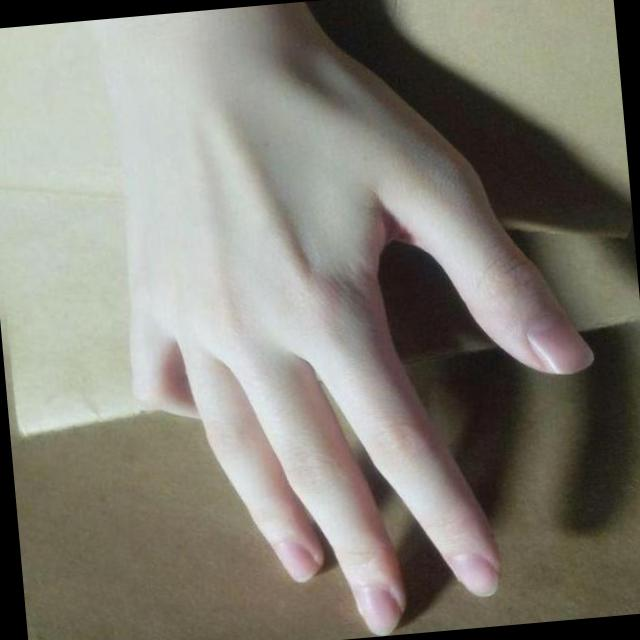Nail: (525, 311, 593, 373), (353, 585, 400, 635), (449, 554, 498, 596), (272, 539, 317, 581)
